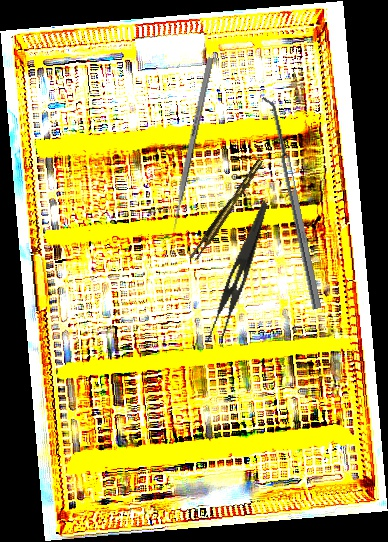Dressing Forceps: (203, 196, 270, 350)
Pusher: (168, 56, 214, 241)
Spatula Surgical: (259, 94, 322, 312)
Tissue Forceps: (185, 158, 269, 263)
